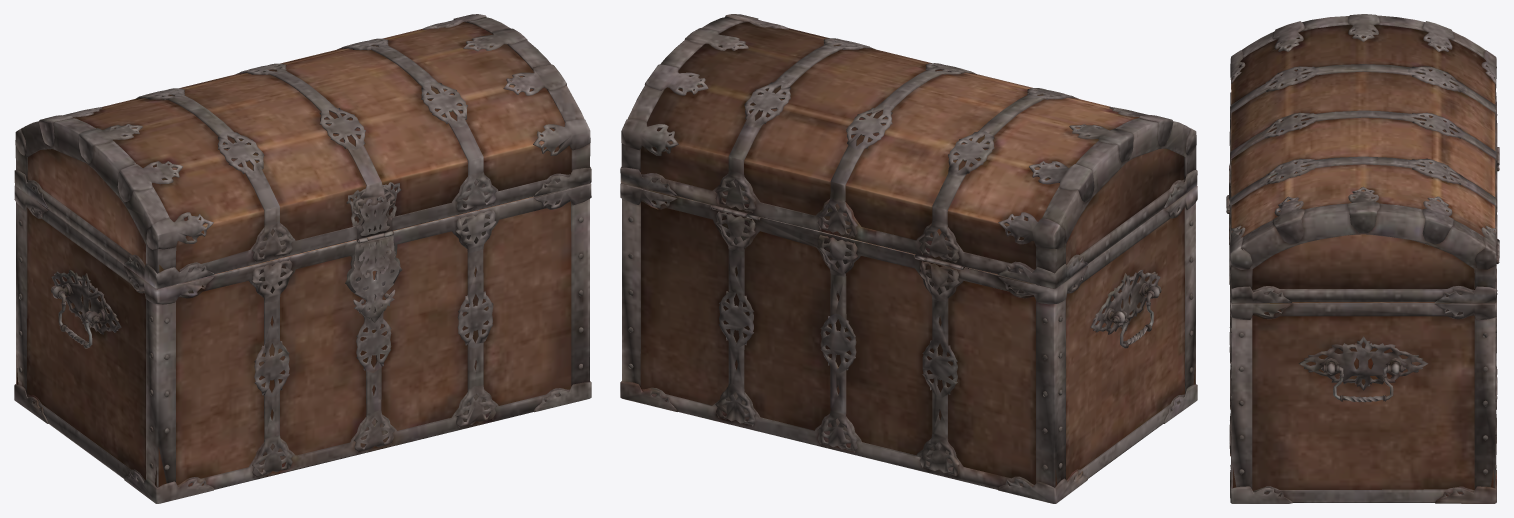
File: treasure_chest.glb
3 views of the same model, side by side, from view 1: azimuth 30°, elevation 25°; view 2: azimuth 150°, elevation 25°; view 3: azimuth 270°, elevation 25° (orthographic). The views are drawn at different scales.
Parts seen in each view (by area): view 1: treasure_chest_bottom; view 2: treasure_chest_bottom; view 3: treasure_chest_bottom.
Boxes of the visible parts, bbox=[...] form: treasure_chest_bottom: bbox=[14, 14, 591, 503]; treasure_chest_bottom: bbox=[620, 14, 1197, 503]; treasure_chest_bottom: bbox=[1226, 14, 1499, 503].
Size of the model in its own units: 0.959 by 0.6188 by 0.5223.
1 material, 1 textured.
